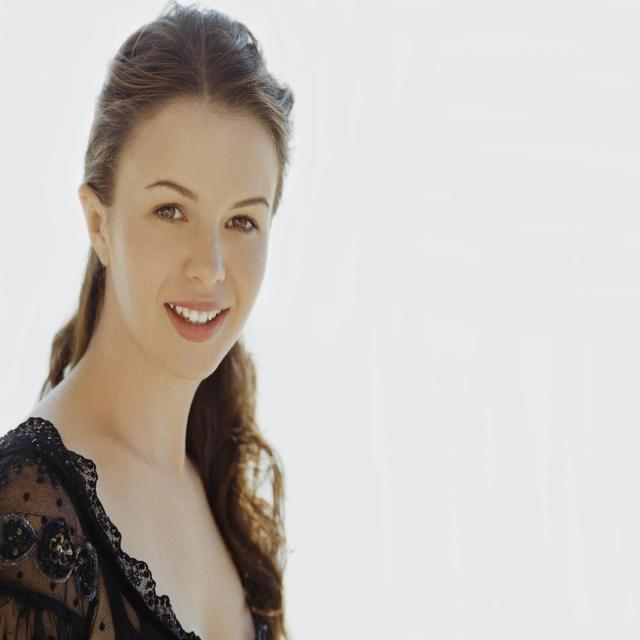no-earmuff: (71, 169, 125, 284)
